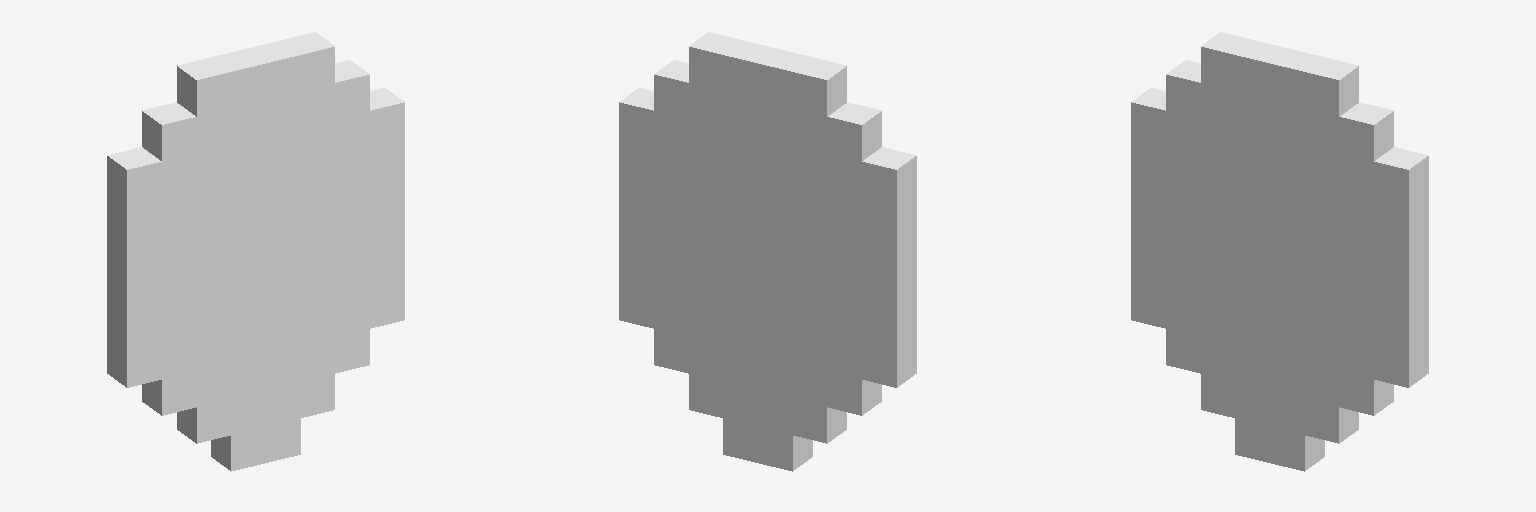
File: KiteShield.obj
The picture shows the model from 3 angles: view 1: azimuth 30°, elevation 25°; view 2: azimuth 150°, elevation 25°; view 3: azimuth 330°, elevation 25°; orthographic projection.
Size of the model in its own units: 8 by 11 by 1.